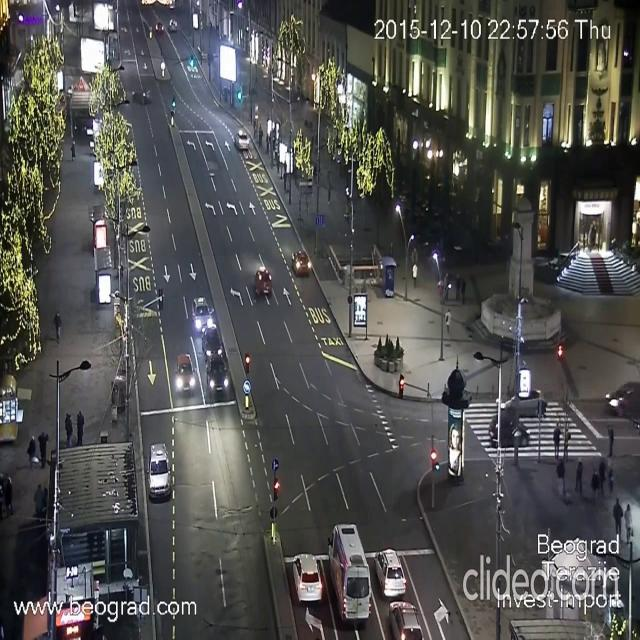bus: (332, 519, 366, 619)
car: (374, 548, 406, 598), (292, 552, 322, 603), (492, 412, 526, 454), (388, 600, 424, 639), (147, 442, 171, 499), (497, 388, 547, 414), (208, 351, 231, 396), (607, 382, 637, 414), (193, 296, 213, 336), (177, 350, 195, 394), (201, 327, 223, 360), (254, 267, 272, 297), (291, 250, 311, 276), (234, 129, 250, 150), (131, 85, 147, 102), (154, 23, 163, 39), (168, 20, 178, 33)
